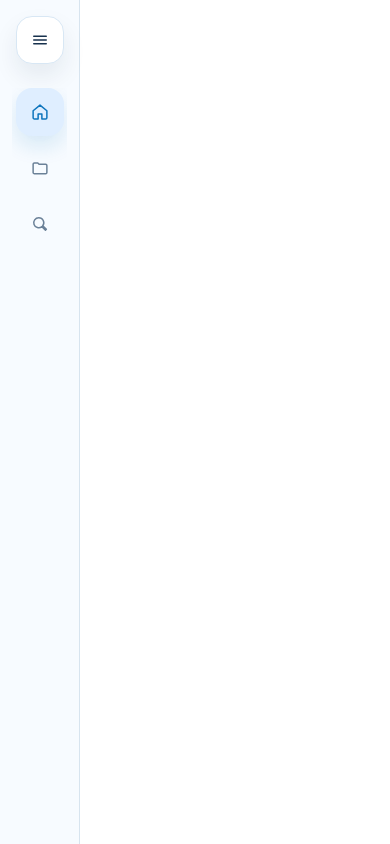
SidebarShell › opens the mobile drawer when expand is clicked
The width and height of the screenshot is (390, 844).
Click the button named "Expand sidebar" at coordinates (40, 40), box [16, 16, 64, 64]
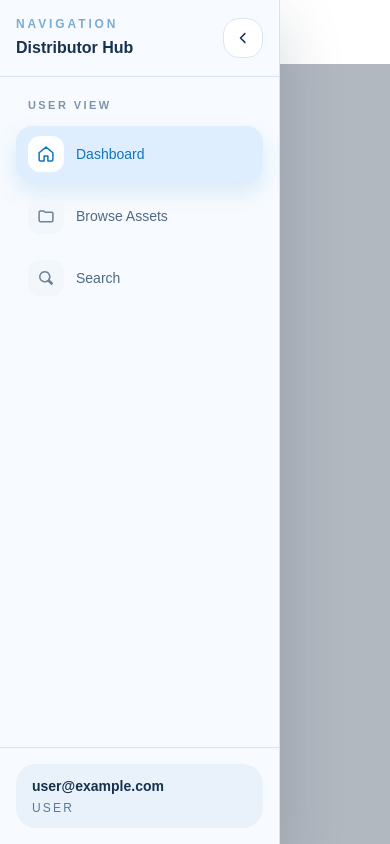
Check: the button named "Collapse sidebar" is shown, box [223, 18, 263, 58]
